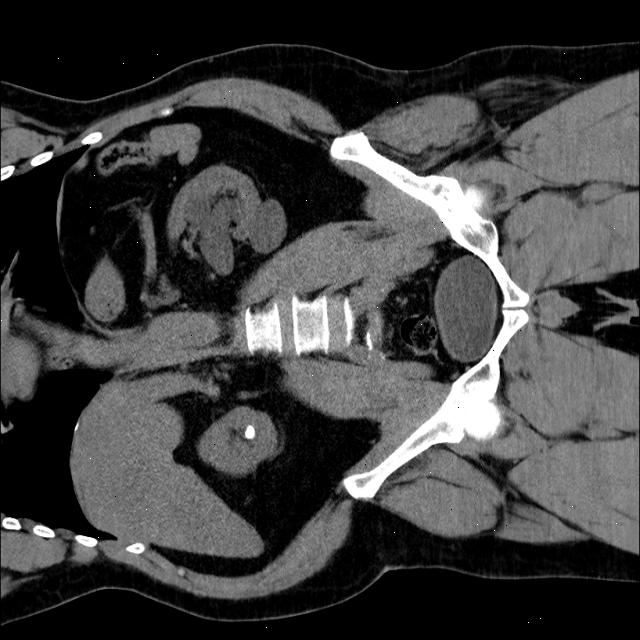kidneystone: (244, 424, 256, 438)
